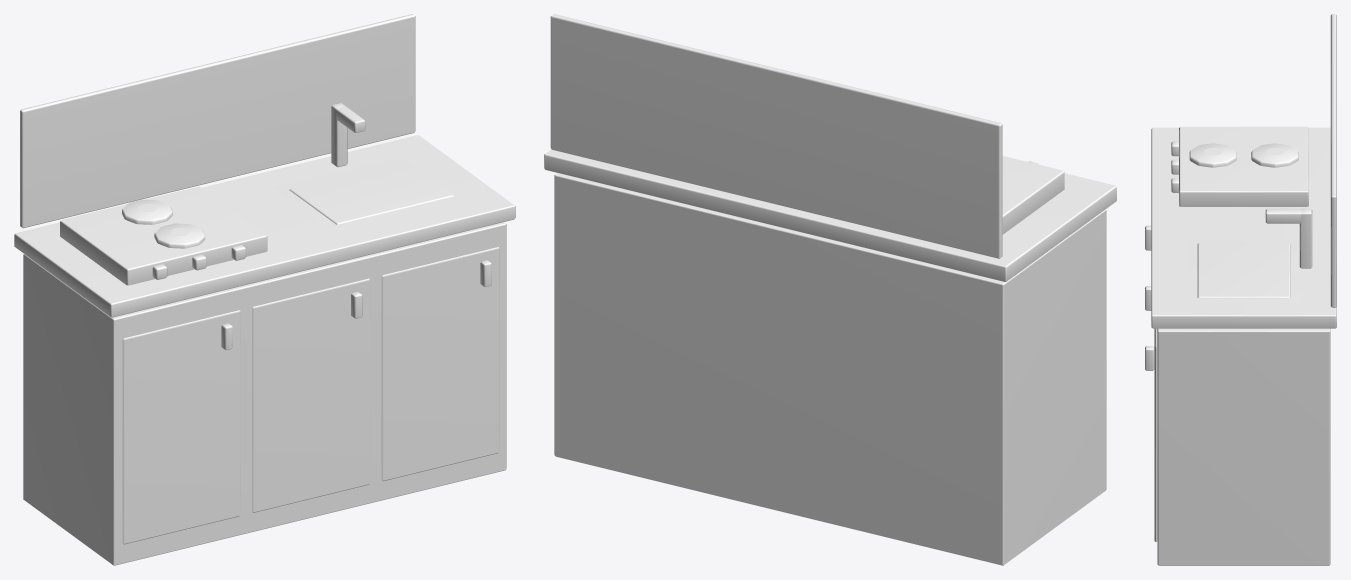
The model's file is kitchen_unit.glb.
3 renders of one model, left to right at view 1: azimuth 30°, elevation 25°; view 2: azimuth 150°, elevation 25°; view 3: azimuth 270°, elevation 25°, orthographic. The views are drawn at different scales.
Visible parts, largest first — view 1: KitchenUnit; view 2: KitchenUnit; view 3: KitchenUnit.
Part boxes in pixels (left/top/right/bottom): KitchenUnit: left=14, top=14, right=515, bottom=565; KitchenUnit: left=544, top=14, right=1116, bottom=565; KitchenUnit: left=1145, top=14, right=1336, bottom=565.
Bounding box in the file's own units: 1.44 × 1.32 × 0.62.
1 material, 1 textured.
